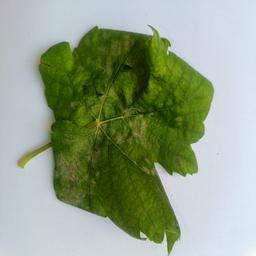Powdery-Mildew: (77, 80, 135, 123)
